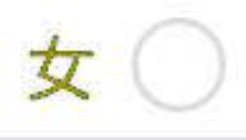CheckBox: (1, 1, 245, 139)
